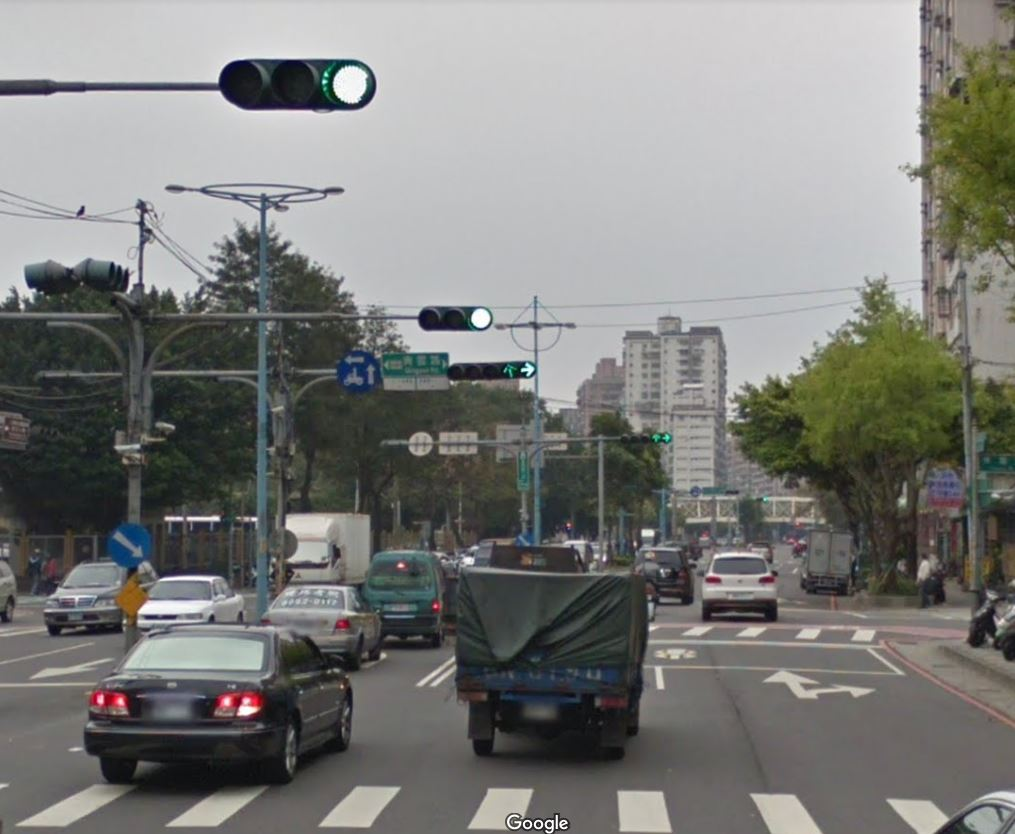Traffic_light_green: (218, 56, 381, 119), (416, 302, 494, 333)
car: (77, 612, 362, 785), (698, 545, 782, 624)
